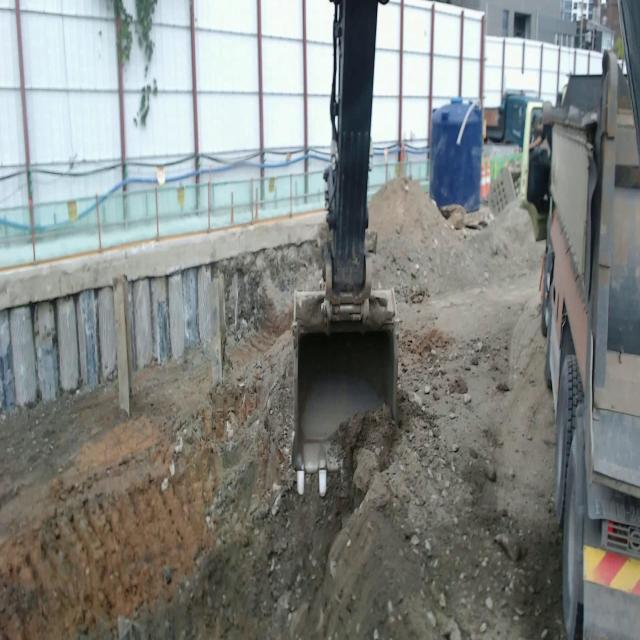white-sand: (0, 180, 563, 639)
